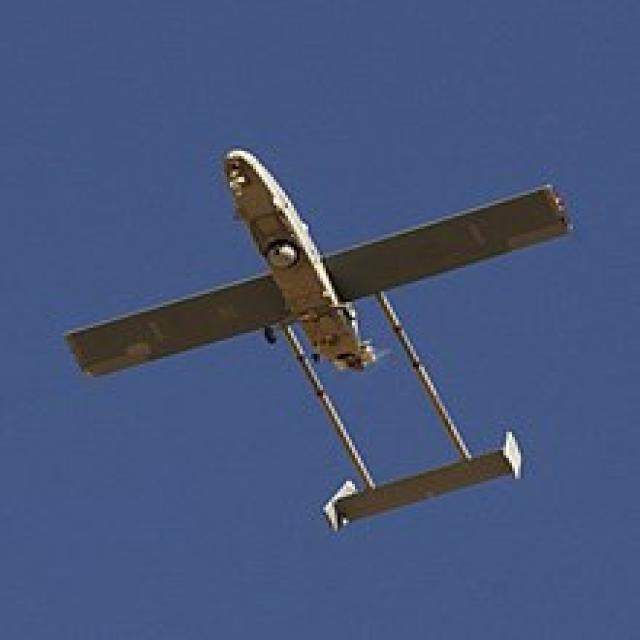iha: (65, 149, 580, 534)
